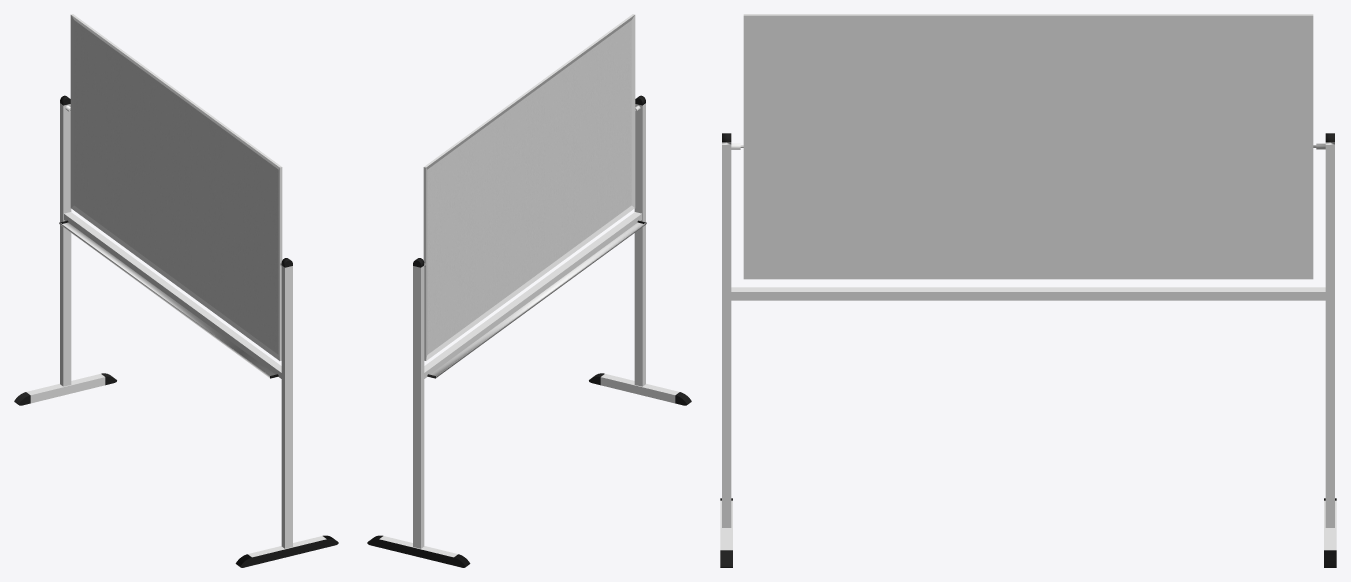
The model's file is papan putih.fbx.
The picture shows the model from 3 angles, left to right: view 1: azimuth 30°, elevation 25°; view 2: azimuth 150°, elevation 25°; view 3: azimuth 270°, elevation 25°; orthographic projection. The views are drawn at different scales.
Parts seen in each view (by area): view 1: G-__556293, G-__556302; view 2: G-__556293, G-__556302; view 3: G-__556293, G-__556302.
Boxes of the visible parts, left/top/right/bottom form: G-__556293: left=70, top=14, right=282, bottom=360; G-__556302: left=14, top=95, right=338, bottom=567; G-__556293: left=423, top=14, right=635, bottom=360; G-__556302: left=367, top=95, right=691, bottom=567; G-__556293: left=743, top=14, right=1313, bottom=279; G-__556302: left=720, top=133, right=1336, bottom=567.
Bounding box in the file's own units: 50 × 186 × 199.
6 materials, 3 textured.
